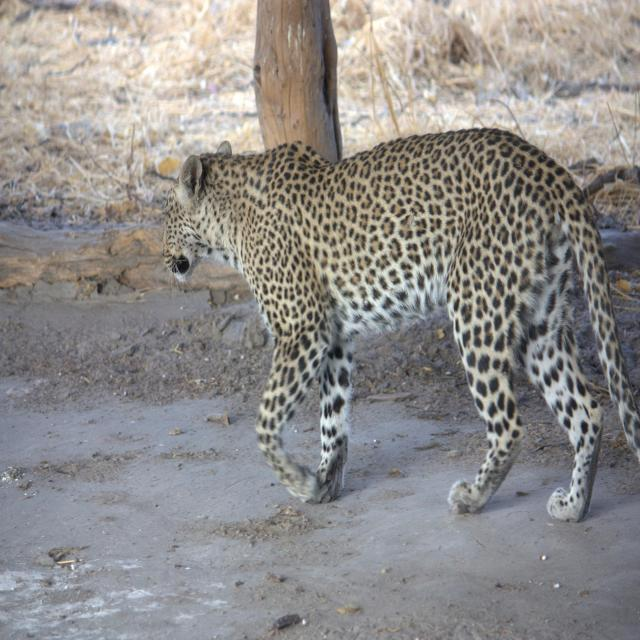Leopard: (135, 116, 640, 545)
